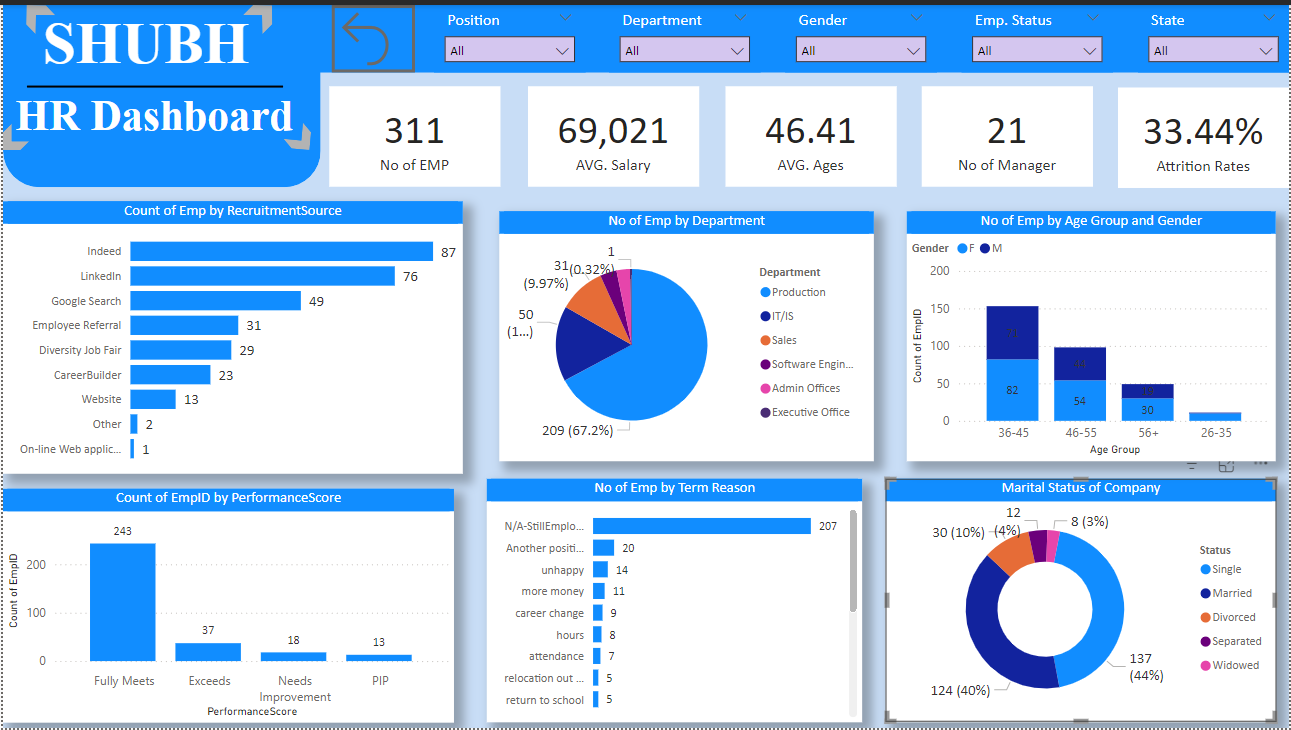

Layout of this report page (visuals, bound fields, positions):
{"tool":"powerbi","page":{"name":"HR DATASET","canvas":[1280,720],"ordinal":0},"visuals":[{"type":"group","id":"g1","title":"Group 1","box":[0,0,1280,181.2],"z":0},{"type":"shape","box":[0,0,316.2,181.2],"z":0,"group":"g1"},{"type":"card","fields":{"Values":["HR.EmpID"]},"box":[325,81.2,170,100],"z":1000},{"type":"shape","box":[0,0,1280,67.5],"z":2000,"group":"g1"},{"type":"card","fields":{"Values":["All Measures.Average Salary"]},"box":[522.5,81.2,170,100],"z":2000},{"type":"card","fields":{"Values":["HR.ManagerName"]},"box":[913.8,81.2,170,100],"z":3000},{"type":"card","fields":{"Values":["All Measures.AVG. Ages"]},"box":[718.8,81.2,170,100],"z":4000},{"type":"card","fields":{"Values":["All Measures.Attrition Rates"]},"box":[1109.6,81.7,170,100],"z":5000},{"type":"pieChart","title":"No of Emp by Department","fields":{"Category":["HR.Department"],"Y":["HR.EmpID"]},"box":[494.3,205.7,372.9,248.6],"z":6000},{"type":"donutChart","title":"Marital Status of Company","fields":{"Category":["HR.MaritalDesc"],"Y":["HR.EmpID"]},"box":[878.8,471.2,388.8,242.5],"z":7000},{"type":"columnChart","title":"No of Emp by Age Group and Gender","fields":{"Y":["HR.EmpID"],"Category":["HR.Age Group"],"Series":["HR.Gender"]},"box":[900,205.7,367.1,248.6],"z":8000},{"type":"barChart","title":"Count of Emp by RecruitmentSource","fields":{"Category":["HR.RecruitmentSource"],"Y":["HR.EmpID"]},"box":[0,195,457.5,271.2],"z":9000},{"type":"barChart","title":"No of Emp by Term Reason","fields":{"Y":["HR.EmpID"],"Category":["HR.TermReason"]},"box":[481.2,471.2,373.8,242.5],"z":10000},{"type":"columnChart","fields":{"Category":["HR.PerformanceScore"],"Y":["HR.EmpID"]},"box":[0,481.2,448.8,232.5],"z":11000},{"type":"slicer","fields":{"Values":["HR.State"]},"box":[1130,0,150,67.1],"z":12000},{"type":"slicer","fields":{"Values":["HR.EmploymentStatus"]},"box":[954.6,0,150,67.1],"z":13000},{"type":"slicer","fields":{"Values":["HR.Gender"]},"box":[779.3,0,150,67.1],"z":14000},{"type":"slicer","fields":{"Values":["HR.Department"]},"box":[603.9,0,150,67.5],"z":15000},{"type":"slicer","fields":{"Values":["HR.Position"]},"box":[428.6,0,150,67.1],"z":16000},{"type":"textbox","box":[0,0,285,81.2],"z":17000},{"type":"textbox","box":[0,81.2,301.2,64.2],"z":18000},{"type":"shape","box":[237.1,0,31.7,29.2],"z":19000},{"type":"shape","box":[22.9,0,30.4,29.2],"z":23000},{"type":"shape","box":[0,117.5,26.2,28.3],"z":25000},{"type":"shape","box":[278.3,117.5,28.3,27.5],"z":26000},{"type":"actionButton","box":[327.1,0,82.9,67.1],"z":27000},{"type":"shape","box":[23.1,74.6,255.4,13.1],"z":27001}]}

Visuals, with their boxes in screenshot pixels (x1, y1, x2, y2), scaled from the page's 1280x720 canvas onto the 1291x730 screenshot:
"Group 1" group: bbox(0, 0, 1290, 184)
shape: bbox(0, 0, 319, 184)
card - HR.EmpID: bbox(328, 82, 499, 184)
shape: bbox(0, 0, 1290, 68)
card - All Measures.Average Salary: bbox(527, 82, 698, 184)
card - HR.ManagerName: bbox(922, 82, 1093, 184)
card - All Measures.AVG. Ages: bbox(725, 82, 896, 184)
card - All Measures.Attrition Rates: bbox(1119, 83, 1290, 184)
"No of Emp by Department" pieChart: bbox(499, 209, 875, 461)
"Marital Status of Company" donutChart: bbox(886, 478, 1278, 724)
"No of Emp by Age Group and Gender" columnChart: bbox(908, 209, 1278, 461)
"Count of Emp by RecruitmentSource" barChart: bbox(0, 198, 461, 473)
"No of Emp by Term Reason" barChart: bbox(485, 478, 862, 724)
columnChart - HR.PerformanceScore x HR.EmpID: bbox(0, 488, 453, 724)
slicer - HR.State: bbox(1140, 0, 1290, 68)
slicer - HR.EmploymentStatus: bbox(963, 0, 1114, 68)
slicer - HR.Gender: bbox(786, 0, 937, 68)
slicer - HR.Department: bbox(609, 0, 760, 68)
slicer - HR.Position: bbox(432, 0, 584, 68)
textbox: bbox(0, 0, 287, 82)
textbox: bbox(0, 82, 304, 147)
shape: bbox(239, 0, 271, 30)
shape: bbox(23, 0, 54, 30)
shape: bbox(0, 119, 26, 148)
shape: bbox(281, 119, 309, 147)
actionButton: bbox(330, 0, 414, 68)
shape: bbox(23, 76, 281, 89)
